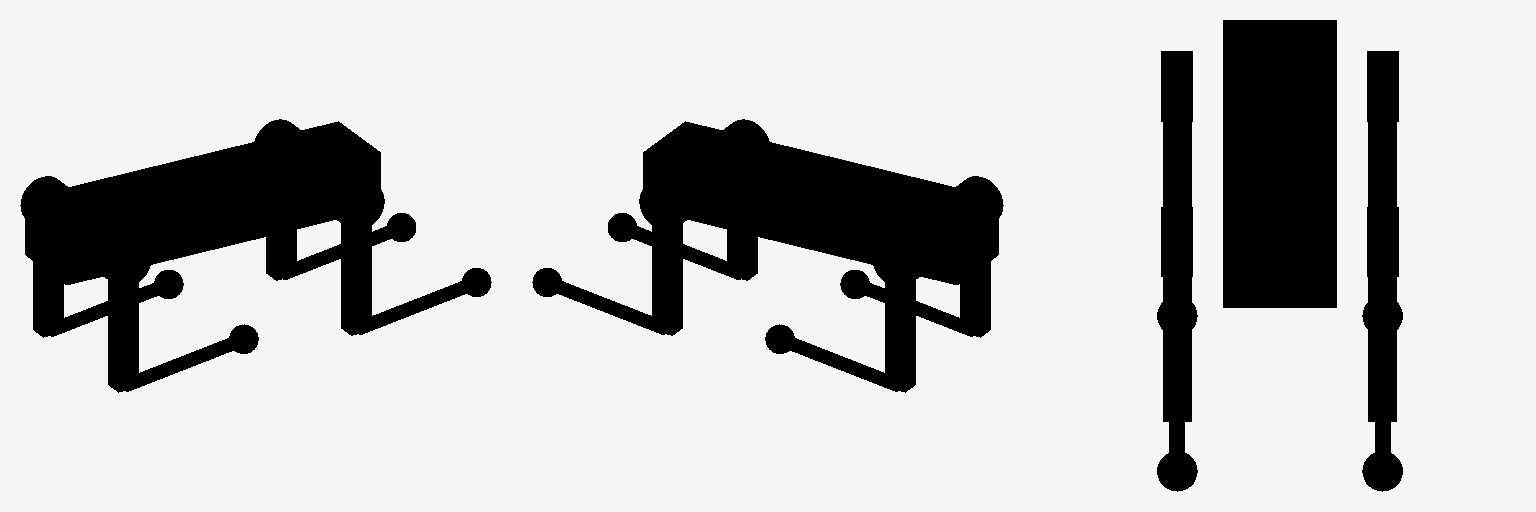
The robot description file, URDF, robot "aliengo":
<?xml version="0.0" ?>
<robot name="aliengo">
	<link name="trunk">
		<inertial>
			<origin rpy="0.00000 0.00000 0.00000" xyz="0.00847 0.00404 -0.00076"/>
			<mass value="9.04100"/>
			<inertia ixx="0.03326" ixy="-0.00045" ixz="0.00049" iyy="0.16117" iyz="0.00005" izz="0.17460"/>
		</inertial>
		<visual>
			<origin rpy="0.00000 0.00000 0.00000" xyz="0.00000 0.00000 0.00000"/>
			<geometry>
				<box size="0.64700 0.15000 0.11200"/>
			</geometry>
			<material name="">
				<color rgba="0.00000 0.00000 0.00000 0.50000" />
			</material>
		</visual>
		<collision>
			<origin rpy="0.00000 0.00000 0.00000" xyz="0.00000 0.00000 0.00000"/>
			<geometry>
				<box size="0.64700 0.15000 0.11200"/>
			</geometry>
		</collision>
	</link>
	<link name="imu_link">
		<inertial>
			<origin rpy="0.00000 0.00000 0.00000" xyz="0.00000 0.00000 0.00000"/>
			<mass value="0.00100"/>
			<inertia ixx="0.00010" ixy="0.00000" ixz="0.00000" iyy="0.00000" iyz="0.00000" izz="0.00010"/>
		</inertial>
		<visual>
			<origin rpy="0.00000 0.00000 0.00000" xyz="0.00000 0.00000 0.00000"/>
			<geometry>
				<box size="0.00100 0.00100 0.00100"/>
			</geometry>
			<material name="">
				<color rgba="0.00000 0.00000 0.00000 0.50000" />
			</material>
		</visual>
		<collision>
			<origin rpy="0.00000 0.00000 0.00000" xyz="0.00000 0.00000 0.00000"/>
			<geometry>
				<box size="0.00100 0.00100 0.00100"/>
			</geometry>
		</collision>
	</link>
	<link name="FR_hip">
		<inertial>
			<origin rpy="0.00000 0.00000 0.00000" xyz="-0.02219 -0.01514 -0.00002"/>
			<mass value="1.99300"/>
			<inertia ixx="0.00290" ixy="0.00007" ixz="-0.00000" iyy="0.00491" iyz="0.00000" izz="0.00559"/>
		</inertial>
		<visual>
			<origin rpy="1.57080 0.00000 0.00000" xyz="0.00000 -0.08300 0.00000"/>
			<geometry>
				<cylinder length="0.04180" radius="0.04600"/>
			</geometry>
			<material name="">
				<color rgba="0.00000 0.00000 0.00000 0.50000" />
			</material>
		</visual>
		<collision>
			<origin rpy="1.57080 0.00000 0.00000" xyz="0.00000 -0.08300 0.00000"/>
			<geometry>
				<cylinder length="0.04180" radius="0.04600"/>
			</geometry>
		</collision>
	</link>
	<link name="FR_upper">
		<inertial>
			<origin rpy="0.00000 0.00000 0.00000" xyz="-0.00561 0.00388 -0.04820"/>
			<mass value="0.63900"/>
			<inertia ixx="0.00567" ixy="-0.00000" ixz="0.00049" iyy="0.00585" iyz="-0.00001" izz="0.00037"/>
		</inertial>
		<visual>
			<origin rpy="0.00000 1.57080 0.00000" xyz="0.00000 0.00000 -0.12500"/>
			<geometry>
				<box size="0.25000 0.03740 0.04300"/>
			</geometry>
			<material name="">
				<color rgba="0.00000 0.00000 0.00000 0.50000" />
			</material>
		</visual>
		<collision>
			<origin rpy="0.00000 1.57080 0.00000" xyz="0.00000 0.00000 -0.12500"/>
			<geometry>
				<box size="0.25000 0.03740 0.04300"/>
			</geometry>
		</collision>
	</link>
	<link name="FR_lower">
		<inertial>
			<origin rpy="0.00000 0.00000 0.00000" xyz="0.00278 0.00006 -0.14252"/>
			<mass value="0.20700"/>
			<inertia ixx="0.00634" ixy="-0.00000" ixz="-0.00009" iyy="0.00636" iyz="-0.00000" izz="0.00004"/>
		</inertial>
		<visual>
			<origin rpy="0.00000 1.57080 0.00000" xyz="0.00000 0.00000 -0.12500"/>
			<geometry>
				<box size="0.25000 0.02080 0.01600"/>
			</geometry>
			<material name="">
				<color rgba="0.00000 0.00000 0.00000 0.50000" />
			</material>
		</visual>
		<collision>
			<origin rpy="0.00000 1.57080 0.00000" xyz="0.00000 0.00000 -0.12500"/>
			<geometry>
				<box size="0.25000 0.02080 0.01600"/>
			</geometry>
		</collision>
	</link>
	<link name="FR_toe">
		<inertial>
			<origin rpy="0.00000 0.00000 0.00000" xyz="0.00000 0.00000 0.00000"/>
			<mass value="0.06000"/>
			<inertia ixx="0.00002" ixy="0.00000" ixz="0.00000" iyy="0.00002" iyz="0.00000" izz="0.00002"/>
		</inertial>
		<visual>
			<origin rpy="0.00000 0.00000 0.00000" xyz="0.00000 0.00000 0.00000"/>
			<geometry>
				<sphere radius="0.02650"/>
			</geometry>
			<material name="">
				<color rgba="0.00000 0.00000 0.00000 0.50000" />
			</material>
		</visual>
		<collision>
			<origin rpy="0.00000 0.00000 0.00000" xyz="0.00000 0.00000 0.00000"/>
			<geometry>
				<sphere radius="0.02650"/>
			</geometry>
		</collision>
	</link>
	<link name="FL_hip">
		<inertial>
			<origin rpy="0.00000 0.00000 0.00000" xyz="-0.02219 0.01514 -0.00002"/>
			<mass value="1.99300"/>
			<inertia ixx="0.00290" ixy="-0.00007" ixz="-0.00000" iyy="0.00491" iyz="-0.00000" izz="0.00559"/>
		</inertial>
		<visual>
			<origin rpy="1.57080 0.00000 0.00000" xyz="0.00000 0.08300 0.00000"/>
			<geometry>
				<cylinder length="0.04180" radius="0.04600"/>
			</geometry>
			<material name="">
				<color rgba="0.00000 0.00000 0.00000 0.50000" />
			</material>
		</visual>
		<collision>
			<origin rpy="1.57080 0.00000 0.00000" xyz="0.00000 0.08300 0.00000"/>
			<geometry>
				<cylinder length="0.04180" radius="0.04600"/>
			</geometry>
		</collision>
	</link>
	<link name="FL_upper">
		<inertial>
			<origin rpy="0.00000 0.00000 0.00000" xyz="-0.00561 -0.00388 -0.04820"/>
			<mass value="0.63900"/>
			<inertia ixx="0.00567" ixy="0.00000" ixz="0.00049" iyy="0.00585" iyz="0.00001" izz="0.00037"/>
		</inertial>
		<visual>
			<origin rpy="0.00000 1.57080 0.00000" xyz="0.00000 0.00000 -0.12500"/>
			<geometry>
				<box size="0.25000 0.03740 0.04300"/>
			</geometry>
			<material name="">
				<color rgba="0.00000 0.00000 0.00000 0.50000" />
			</material>
		</visual>
		<collision>
			<origin rpy="0.00000 1.57080 0.00000" xyz="0.00000 0.00000 -0.12500"/>
			<geometry>
				<box size="0.25000 0.03740 0.04300"/>
			</geometry>
		</collision>
	</link>
	<link name="FL_lower">
		<inertial>
			<origin rpy="0.00000 0.00000 0.00000" xyz="0.00278 0.00006 -0.14252"/>
			<mass value="0.20700"/>
			<inertia ixx="0.00634" ixy="-0.00000" ixz="-0.00009" iyy="0.00636" iyz="-0.00000" izz="0.00004"/>
		</inertial>
		<visual>
			<origin rpy="0.00000 1.57080 0.00000" xyz="0.00000 0.00000 -0.12500"/>
			<geometry>
				<box size="0.25000 0.02080 0.01600"/>
			</geometry>
			<material name="">
				<color rgba="0.00000 0.00000 0.00000 0.50000" />
			</material>
		</visual>
		<collision>
			<origin rpy="0.00000 1.57080 0.00000" xyz="0.00000 0.00000 -0.12500"/>
			<geometry>
				<box size="0.25000 0.02080 0.01600"/>
			</geometry>
		</collision>
	</link>
	<link name="FL_toe">
		<inertial>
			<origin rpy="0.00000 0.00000 0.00000" xyz="0.00000 0.00000 0.00000"/>
			<mass value="0.06000"/>
			<inertia ixx="0.00002" ixy="0.00000" ixz="0.00000" iyy="0.00002" iyz="0.00000" izz="0.00002"/>
		</inertial>
		<visual>
			<origin rpy="0.00000 0.00000 0.00000" xyz="0.00000 0.00000 0.00000"/>
			<geometry>
				<sphere radius="0.02650"/>
			</geometry>
			<material name="">
				<color rgba="0.00000 0.00000 0.00000 0.50000" />
			</material>
		</visual>
		<collision>
			<origin rpy="0.00000 0.00000 0.00000" xyz="0.00000 0.00000 0.00000"/>
			<geometry>
				<sphere radius="0.02650"/>
			</geometry>
		</collision>
	</link>
	<link name="RR_hip">
		<inertial>
			<origin rpy="0.00000 0.00000 0.00000" xyz="0.02219 -0.01514 -0.00002"/>
			<mass value="1.99300"/>
			<inertia ixx="0.00290" ixy="-0.00007" ixz="0.00000" iyy="0.00491" iyz="0.00000" izz="0.00559"/>
		</inertial>
		<visual>
			<origin rpy="1.57080 0.00000 0.00000" xyz="0.00000 -0.08300 0.00000"/>
			<geometry>
				<cylinder length="0.04180" radius="0.04600"/>
			</geometry>
			<material name="">
				<color rgba="0.00000 0.00000 0.00000 0.50000" />
			</material>
		</visual>
		<collision>
			<origin rpy="1.57080 0.00000 0.00000" xyz="0.00000 -0.08300 0.00000"/>
			<geometry>
				<cylinder length="0.04180" radius="0.04600"/>
			</geometry>
		</collision>
	</link>
	<link name="RR_upper">
		<inertial>
			<origin rpy="0.00000 0.00000 0.00000" xyz="-0.00561 0.00388 -0.04820"/>
			<mass value="0.63900"/>
			<inertia ixx="0.00567" ixy="-0.00000" ixz="0.00049" iyy="0.00585" iyz="-0.00001" izz="0.00037"/>
		</inertial>
		<visual>
			<origin rpy="0.00000 1.57080 0.00000" xyz="0.00000 0.00000 -0.12500"/>
			<geometry>
				<box size="0.25000 0.03740 0.04300"/>
			</geometry>
			<material name="">
				<color rgba="0.00000 0.00000 0.00000 0.50000" />
			</material>
		</visual>
		<collision>
			<origin rpy="0.00000 1.57080 0.00000" xyz="0.00000 0.00000 -0.12500"/>
			<geometry>
				<box size="0.25000 0.03740 0.04300"/>
			</geometry>
		</collision>
	</link>
	<link name="RR_lower">
		<inertial>
			<origin rpy="0.00000 0.00000 0.00000" xyz="0.00278 0.00006 -0.14252"/>
			<mass value="0.20700"/>
			<inertia ixx="0.00634" ixy="-0.00000" ixz="-0.00009" iyy="0.00636" iyz="-0.00000" izz="0.00004"/>
		</inertial>
		<visual>
			<origin rpy="0.00000 1.57080 0.00000" xyz="0.00000 0.00000 -0.12500"/>
			<geometry>
				<box size="0.25000 0.02080 0.01600"/>
			</geometry>
			<material name="">
				<color rgba="0.00000 0.00000 0.00000 0.50000" />
			</material>
		</visual>
		<collision>
			<origin rpy="0.00000 1.57080 0.00000" xyz="0.00000 0.00000 -0.12500"/>
			<geometry>
				<box size="0.25000 0.02080 0.01600"/>
			</geometry>
		</collision>
	</link>
	<link name="RR_toe">
		<inertial>
			<origin rpy="0.00000 0.00000 0.00000" xyz="0.00000 0.00000 0.00000"/>
			<mass value="0.06000"/>
			<inertia ixx="0.00002" ixy="0.00000" ixz="0.00000" iyy="0.00002" iyz="0.00000" izz="0.00002"/>
		</inertial>
		<visual>
			<origin rpy="0.00000 0.00000 0.00000" xyz="0.00000 0.00000 0.00000"/>
			<geometry>
				<sphere radius="0.02650"/>
			</geometry>
			<material name="">
				<color rgba="0.00000 0.00000 0.00000 0.50000" />
			</material>
		</visual>
		<collision>
			<origin rpy="0.00000 0.00000 0.00000" xyz="0.00000 0.00000 0.00000"/>
			<geometry>
				<sphere radius="0.02650"/>
			</geometry>
		</collision>
	</link>
	<link name="RL_hip">
		<inertial>
			<origin rpy="0.00000 0.00000 0.00000" xyz="0.02219 0.01514 -0.00002"/>
			<mass value="1.99300"/>
			<inertia ixx="0.00290" ixy="0.00007" ixz="0.00000" iyy="0.00491" iyz="-0.00000" izz="0.00559"/>
		</inertial>
		<visual>
			<origin rpy="1.57080 0.00000 0.00000" xyz="0.00000 0.08300 0.00000"/>
			<geometry>
				<cylinder length="0.04180" radius="0.04600"/>
			</geometry>
			<material name="">
				<color rgba="0.00000 0.00000 0.00000 0.50000" />
			</material>
		</visual>
		<collision>
			<origin rpy="1.57080 0.00000 0.00000" xyz="0.00000 0.08300 0.00000"/>
			<geometry>
				<cylinder length="0.04180" radius="0.04600"/>
			</geometry>
		</collision>
	</link>
	<link name="RL_upper">
		<inertial>
			<origin rpy="0.00000 0.00000 0.00000" xyz="-0.00561 -0.00388 -0.04820"/>
			<mass value="0.63900"/>
			<inertia ixx="0.00567" ixy="0.00000" ixz="0.00049" iyy="0.00585" iyz="0.00001" izz="0.00037"/>
		</inertial>
		<visual>
			<origin rpy="0.00000 1.57080 0.00000" xyz="0.00000 0.00000 -0.12500"/>
			<geometry>
				<box size="0.25000 0.03740 0.04300"/>
			</geometry>
			<material name="">
				<color rgba="0.00000 0.00000 0.00000 0.50000" />
			</material>
		</visual>
		<collision>
			<origin rpy="0.00000 1.57080 0.00000" xyz="0.00000 0.00000 -0.12500"/>
			<geometry>
				<box size="0.25000 0.03740 0.04300"/>
			</geometry>
		</collision>
	</link>
	<link name="RL_lower">
		<inertial>
			<origin rpy="0.00000 0.00000 0.00000" xyz="0.00278 0.00006 -0.14252"/>
			<mass value="0.20700"/>
			<inertia ixx="0.00634" ixy="-0.00000" ixz="-0.00009" iyy="0.00636" iyz="-0.00000" izz="0.00004"/>
		</inertial>
		<visual>
			<origin rpy="0.00000 1.57080 0.00000" xyz="0.00000 0.00000 -0.12500"/>
			<geometry>
				<box size="0.25000 0.02080 0.01600"/>
			</geometry>
			<material name="">
				<color rgba="0.00000 0.00000 0.00000 0.50000" />
			</material>
		</visual>
		<collision>
			<origin rpy="0.00000 1.57080 0.00000" xyz="0.00000 0.00000 -0.12500"/>
			<geometry>
				<box size="0.25000 0.02080 0.01600"/>
			</geometry>
		</collision>
	</link>
	<link name="RL_toe">
		<inertial>
			<origin rpy="0.00000 0.00000 0.00000" xyz="0.00000 0.00000 0.00000"/>
			<mass value="0.06000"/>
			<inertia ixx="0.00002" ixy="0.00000" ixz="0.00000" iyy="0.00002" iyz="0.00000" izz="0.00002"/>
		</inertial>
		<visual>
			<origin rpy="0.00000 0.00000 0.00000" xyz="0.00000 0.00000 0.00000"/>
			<geometry>
				<sphere radius="0.02650"/>
			</geometry>
			<material name="">
				<color rgba="0.00000 0.00000 0.00000 0.50000" />
			</material>
		</visual>
		<collision>
			<origin rpy="0.00000 0.00000 0.00000" xyz="0.00000 0.00000 0.00000"/>
			<geometry>
				<sphere radius="0.02650"/>
			</geometry>
		</collision>
	</link>
	<joint name="imu_joint" type="fixed">
		<parent link="trunk"/>
		<child link="imu_link"/>
		<dynamics damping="0.00000" friction="0.00000"/>
		<origin rpy="0.00000 0.00000 0.00000" xyz="0.00000 0.00000 0.00000"/>
		<axis xyz="1.00000 2.00000 3.00000"/>
	</joint>
	<joint name="FR_hip_joint" type="revolute">
		<parent link="trunk"/>
		<child link="FR_hip"/>
		<limit effort="44.40000" lower="-1.22173" upper="1.22173" velocity="40.00000"/>
		<dynamics damping="0.00000" friction="0.00000"/>
		<origin rpy="0.00000 0.00000 0.00000" xyz="0.23990 -0.05100 0.00000"/>
		<axis xyz="1.00000 0.00000 0.00000"/>
	</joint>
	<joint name="FR_upper_joint" type="revolute">
		<parent link="FR_hip"/>
		<child link="FR_upper"/>
		<limit effort="44.40000" lower="-3.14000" upper="3.14000" velocity="40.00000"/>
		<dynamics damping="0.00000" friction="0.00000"/>
		<origin rpy="0.00000 0.00000 0.00000" xyz="0.00000 -0.08300 0.00000"/>
		<axis xyz="0.00000 1.00000 0.00000"/>
	</joint>
	<joint name="FR_lower_joint" type="revolute">
		<parent link="FR_upper"/>
		<child link="FR_lower"/>
		<limit effort="44.40000" lower="-2.77507" upper="-0.64577" velocity="40.00000"/>
		<dynamics damping="0.00000" friction="0.00000"/>
		<origin rpy="0.00000 0.00000 0.00000" xyz="0.00000 0.00000 -0.25000"/>
		<axis xyz="0.00000 1.00000 0.00000"/>
	</joint>
	<joint name="FR_toe_fixed" type="fixed">
		<parent link="FR_lower"/>
		<child link="FR_toe"/>
		<dynamics damping="0.00000" friction="0.00000"/>
		<origin rpy="0.00000 0.00000 0.00000" xyz="0.00000 0.00000 -0.25000"/>
		<axis xyz="1.00000 2.00000 3.00000"/>
	</joint>
	<joint name="FL_hip_joint" type="revolute">
		<parent link="trunk"/>
		<child link="FL_hip"/>
		<limit effort="44.40000" lower="-1.22173" upper="1.22173" velocity="40.00000"/>
		<dynamics damping="0.00000" friction="0.00000"/>
		<origin rpy="0.00000 0.00000 0.00000" xyz="0.23990 0.05100 0.00000"/>
		<axis xyz="1.00000 0.00000 0.00000"/>
	</joint>
	<joint name="FL_upper_joint" type="revolute">
		<parent link="FL_hip"/>
		<child link="FL_upper"/>
		<limit effort="44.40000" lower="-3.14000" upper="3.14000" velocity="40.00000"/>
		<dynamics damping="0.00000" friction="0.00000"/>
		<origin rpy="0.00000 0.00000 0.00000" xyz="0.00000 0.08300 0.00000"/>
		<axis xyz="0.00000 1.00000 0.00000"/>
	</joint>
	<joint name="FL_lower_joint" type="revolute">
		<parent link="FL_upper"/>
		<child link="FL_lower"/>
		<limit effort="44.40000" lower="-2.77507" upper="-0.64577" velocity="40.00000"/>
		<dynamics damping="0.00000" friction="0.00000"/>
		<origin rpy="0.00000 0.00000 0.00000" xyz="0.00000 0.00000 -0.25000"/>
		<axis xyz="0.00000 1.00000 0.00000"/>
	</joint>
	<joint name="FL_toe_fixed" type="fixed">
		<parent link="FL_lower"/>
		<child link="FL_toe"/>
		<dynamics damping="0.00000" friction="0.00000"/>
		<origin rpy="0.00000 0.00000 0.00000" xyz="0.00000 0.00000 -0.25000"/>
		<axis xyz="1.00000 2.00000 3.00000"/>
	</joint>
	<joint name="RR_hip_joint" type="revolute">
		<parent link="trunk"/>
		<child link="RR_hip"/>
		<limit effort="44.40000" lower="-1.22173" upper="1.22173" velocity="40.00000"/>
		<dynamics damping="0.00000" friction="0.00000"/>
		<origin rpy="0.00000 0.00000 0.00000" xyz="-0.23990 -0.05100 0.00000"/>
		<axis xyz="1.00000 0.00000 0.00000"/>
	</joint>
	<joint name="RR_upper_joint" type="revolute">
		<parent link="RR_hip"/>
		<child link="RR_upper"/>
		<limit effort="44.40000" lower="-3.14000" upper="3.14000" velocity="40.00000"/>
		<dynamics damping="0.00000" friction="0.00000"/>
		<origin rpy="0.00000 0.00000 0.00000" xyz="0.00000 -0.08300 0.00000"/>
		<axis xyz="0.00000 1.00000 0.00000"/>
	</joint>
	<joint name="RR_lower_joint" type="revolute">
		<parent link="RR_upper"/>
		<child link="RR_lower"/>
		<limit effort="44.40000" lower="-2.77507" upper="-0.64577" velocity="40.00000"/>
		<dynamics damping="0.00000" friction="0.00000"/>
		<origin rpy="0.00000 0.00000 0.00000" xyz="0.00000 0.00000 -0.25000"/>
		<axis xyz="0.00000 1.00000 0.00000"/>
	</joint>
	<joint name="RR_toe_fixed" type="fixed">
		<parent link="RR_lower"/>
		<child link="RR_toe"/>
		<dynamics damping="0.00000" friction="0.00000"/>
		<origin rpy="0.00000 0.00000 0.00000" xyz="0.00000 0.00000 -0.25000"/>
		<axis xyz="1.00000 2.00000 3.00000"/>
	</joint>
	<joint name="RL_hip_joint" type="revolute">
		<parent link="trunk"/>
		<child link="RL_hip"/>
		<limit effort="44.40000" lower="-1.22173" upper="1.22173" velocity="40.00000"/>
		<dynamics damping="0.00000" friction="0.00000"/>
		<origin rpy="0.00000 0.00000 0.00000" xyz="-0.23990 0.05100 0.00000"/>
		<axis xyz="1.00000 0.00000 0.00000"/>
	</joint>
	<joint name="RL_upper_joint" type="revolute">
		<parent link="RL_hip"/>
		<child link="RL_upper"/>
		<limit effort="44.40000" lower="-3.14000" upper="3.14000" velocity="40.00000"/>
		<dynamics damping="0.00000" friction="0.00000"/>
		<origin rpy="0.00000 0.00000 0.00000" xyz="0.00000 0.08300 0.00000"/>
		<axis xyz="0.00000 1.00000 0.00000"/>
	</joint>
	<joint name="RL_lower_joint" type="revolute">
		<parent link="RL_upper"/>
		<child link="RL_lower"/>
		<limit effort="44.40000" lower="-2.77507" upper="-0.64577" velocity="40.00000"/>
		<dynamics damping="0.00000" friction="0.00000"/>
		<origin rpy="0.00000 0.00000 0.00000" xyz="0.00000 0.00000 -0.25000"/>
		<axis xyz="0.00000 1.00000 0.00000"/>
	</joint>
	<joint name="RL_toe_fixed" type="fixed">
		<parent link="RL_lower"/>
		<child link="RL_toe"/>
		<dynamics damping="0.00000" friction="0.00000"/>
		<origin rpy="0.00000 0.00000 0.00000" xyz="0.00000 0.00000 -0.25000"/>
		<axis xyz="1.00000 2.00000 3.00000"/>
	</joint>
</robot>

--- What the picture shows (computed from the rendered views, not written in the file) ---
3 views of the same robot in one strip: view 1: azimuth 30°, elevation 25°; view 2: azimuth 150°, elevation 25°; view 3: azimuth 270°, elevation 25° (orthographic).
Robot: aliengo — 18 links, 17 joints (12 revolute, 5 fixed); root link trunk; default pose: all joints at 0 but 4 set to mid-range because 0 is outside their limits (FR_lower_joint = -1.71, FL_lower_joint = -1.71, RR_lower_joint = -1.71, RL_lower_joint = -1.71).
Visible links, largest first — view 1: trunk, RR_upper, FR_upper, RR_hip, FR_hip, RL_upper, FR_lower, RR_lower, FL_upper, FL_lower, RL_lower, RR_toe (+5 smaller); view 2: trunk, RL_upper, FL_upper, RL_hip, FL_hip, RR_upper, FL_lower, RL_lower, FR_upper, FR_lower, RR_lower, RL_toe (+5 smaller); view 3: trunk, FR_upper, FL_upper, RR_upper, RL_upper, RR_hip, RL_hip, FR_hip, FL_hip, FR_toe, FL_toe, FR_lower (+1 smaller).
Link boxes in pixels (left/top/right/bottom): trunk: left=25, top=121, right=380, bottom=284; RR_upper: left=108, top=280, right=138, bottom=392; FR_upper: left=341, top=223, right=371, bottom=335; RR_hip: left=96, top=231, right=151, bottom=287; FR_hip: left=328, top=174, right=384, bottom=230; RL_upper: left=33, top=261, right=63, bottom=337; FR_lower: left=359, top=281, right=468, bottom=334; RR_lower: left=126, top=338, right=235, bottom=391; FL_upper: left=266, top=229, right=296, bottom=280; FL_lower: left=283, top=226, right=393, bottom=279; RL_lower: left=51, top=283, right=160, bottom=336; RR_toe: left=229, top=324, right=258, bottom=353; trunk: left=643, top=121, right=998, bottom=284; RL_upper: left=885, top=280, right=915, bottom=392; FL_upper: left=652, top=223, right=682, bottom=335; RL_hip: left=872, top=231, right=927, bottom=287; FL_hip: left=639, top=174, right=695, bottom=230; RR_upper: left=960, top=261, right=990, bottom=337; FL_lower: left=555, top=281, right=664, bottom=334; RL_lower: left=788, top=338, right=897, bottom=391; FR_upper: left=727, top=229, right=757, bottom=280; FR_lower: left=630, top=226, right=740, bottom=279; RR_lower: left=863, top=283, right=972, bottom=336; RL_toe: left=765, top=324, right=794, bottom=353; trunk: left=1223, top=20, right=1336, bottom=307; FR_upper: left=1163, top=277, right=1191, bottom=421; FL_upper: left=1368, top=277, right=1396, bottom=421; RR_upper: left=1163, top=121, right=1191, bottom=206; RL_upper: left=1368, top=121, right=1396, bottom=206; RR_hip: left=1161, top=51, right=1192, bottom=121; RL_hip: left=1367, top=51, right=1398, bottom=121; FR_hip: left=1161, top=207, right=1192, bottom=276; FL_hip: left=1367, top=207, right=1398, bottom=276; FR_toe: left=1157, top=451, right=1197, bottom=491; FL_toe: left=1362, top=451, right=1402, bottom=491; FR_lower: left=1169, top=415, right=1184, bottom=452.
Bounding box of the posed robot: 0.8374 × 0.321 × 0.3139 m (x, y, z).
Geometry: primitives only (box / cylinder / sphere), no mesh files.
